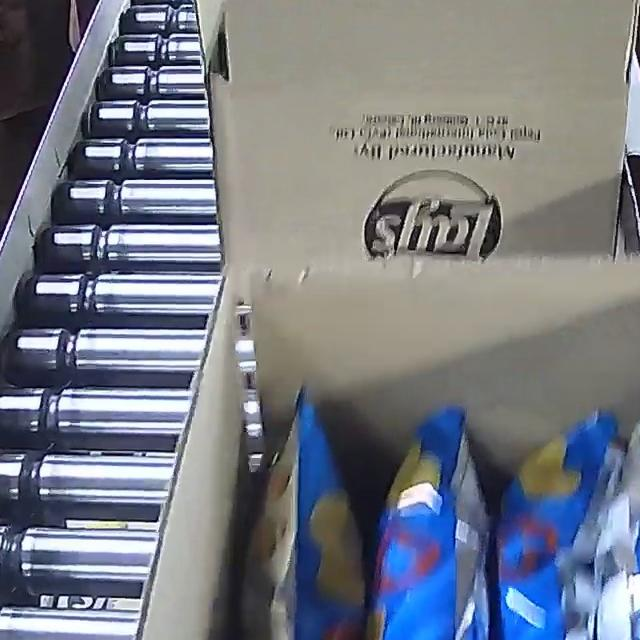paprika: (233, 378, 640, 640)
